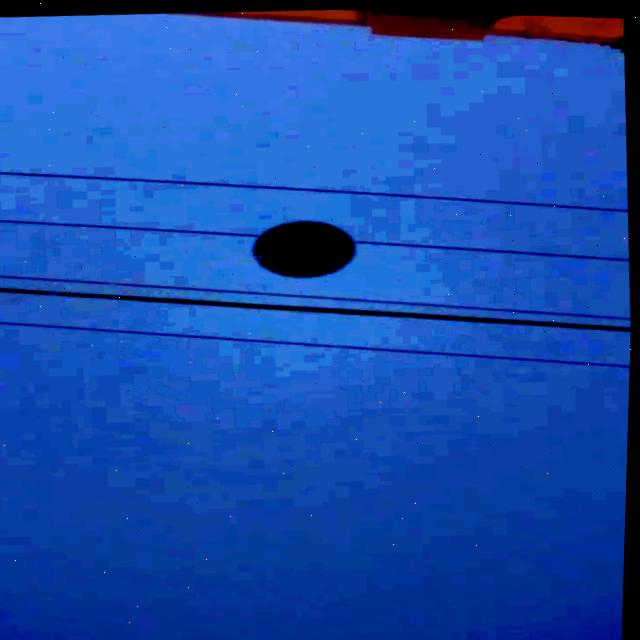obstruction: (257, 219, 356, 275)
wires: (0, 321, 632, 363), (0, 274, 632, 316), (0, 287, 633, 327), (0, 170, 629, 208), (354, 235, 631, 257), (0, 219, 261, 238)
